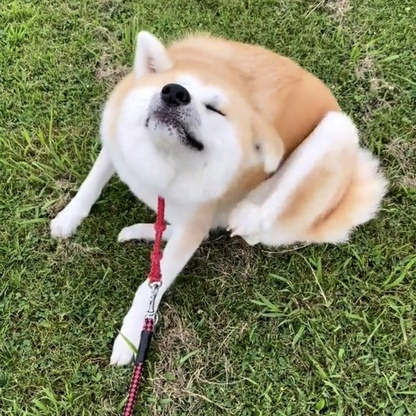akita: (45, 22, 393, 372)
